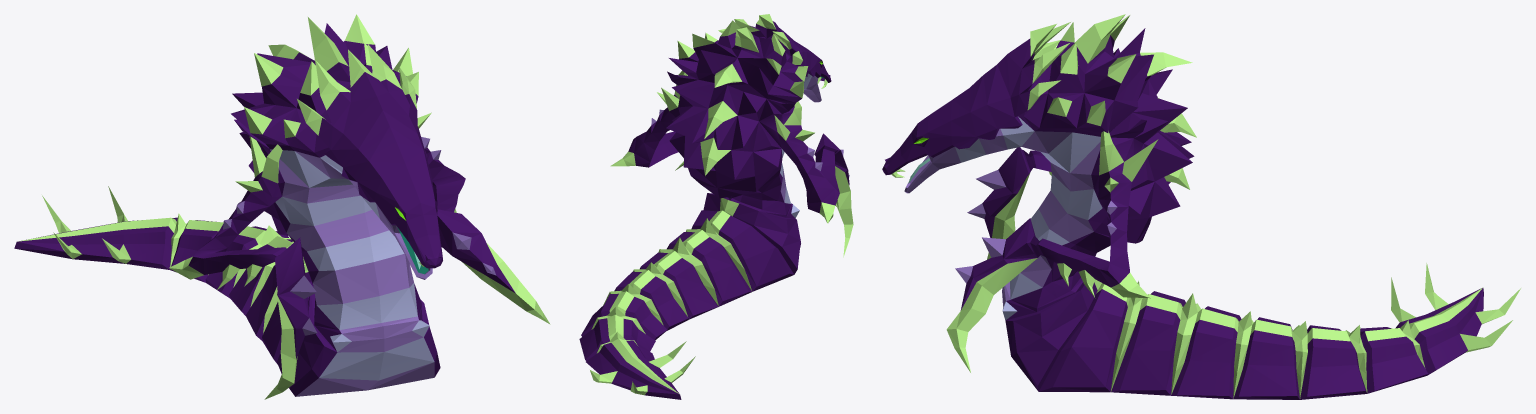
The picture shows the model from 3 angles, left to right: view 1: azimuth 30°, elevation 25°; view 2: azimuth 150°, elevation 25°; view 3: azimuth 270°, elevation 25°; orthographic projection. The views are drawn at different scales.
Parts seen in each view (by area): view 1: Alien_Serpent; view 2: Alien_Serpent; view 3: Alien_Serpent.
Boxes of the visible parts, bbox=[...] form: Alien_Serpent: bbox=[14, 14, 550, 399]; Alien_Serpent: bbox=[579, 14, 853, 399]; Alien_Serpent: bbox=[882, 14, 1520, 399].
Bounding box in the file's own units: 189 × 215 × 365.
Materials: 1 (1 with a texture image).
